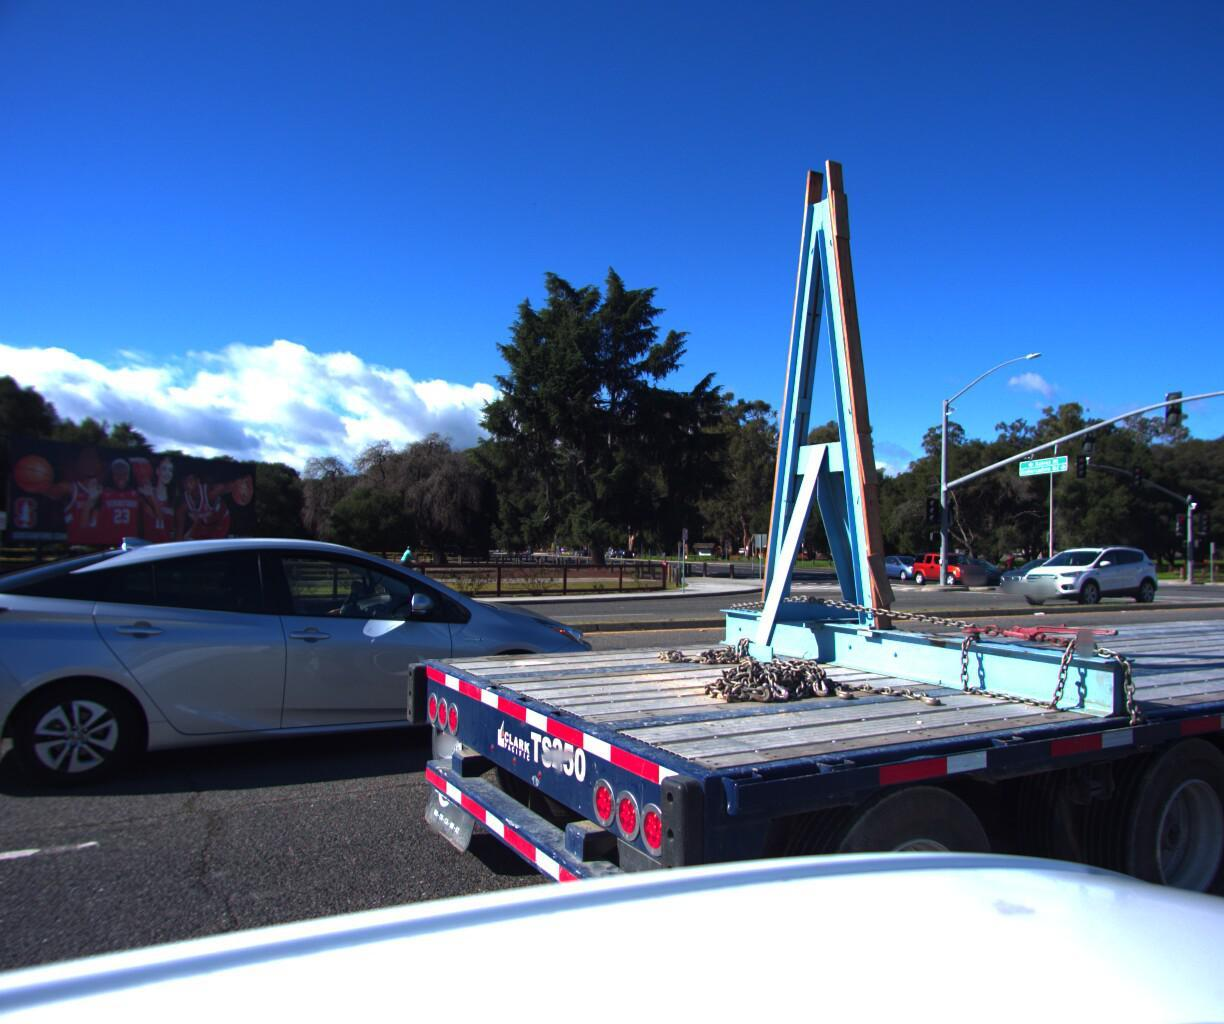bicycle: (388, 542, 439, 577)
car: (0, 532, 636, 815), (1001, 539, 1160, 604), (983, 550, 1119, 596), (897, 546, 994, 582), (929, 553, 1018, 581), (865, 549, 937, 576)
truck: (254, 0, 1224, 1024)
